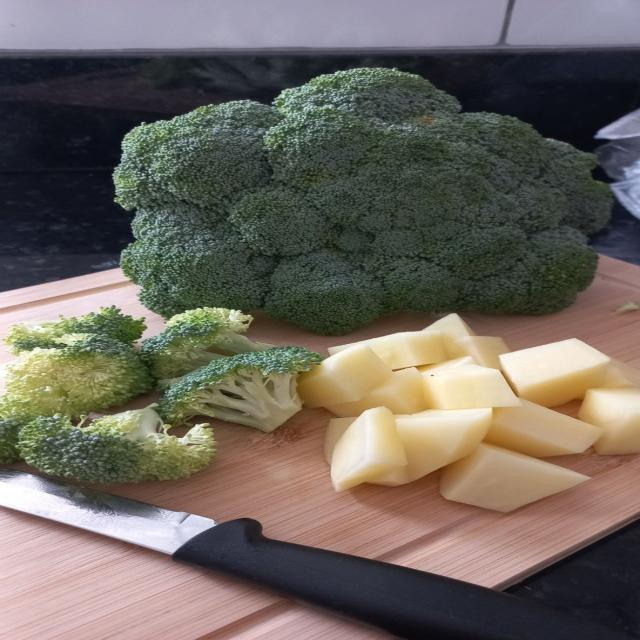broccoli: (115, 69, 611, 334), (19, 406, 216, 483), (159, 346, 323, 432), (3, 334, 152, 417), (141, 308, 273, 387), (5, 306, 146, 353), (0, 403, 32, 464)
cheese: (440, 443, 589, 512), (368, 410, 488, 486), (500, 339, 610, 407), (484, 399, 603, 457), (331, 407, 406, 491), (298, 345, 393, 408), (324, 368, 426, 418), (328, 331, 445, 369), (422, 365, 520, 409), (578, 388, 639, 454), (446, 336, 510, 368), (423, 313, 475, 341), (598, 359, 639, 388), (418, 356, 476, 374)
